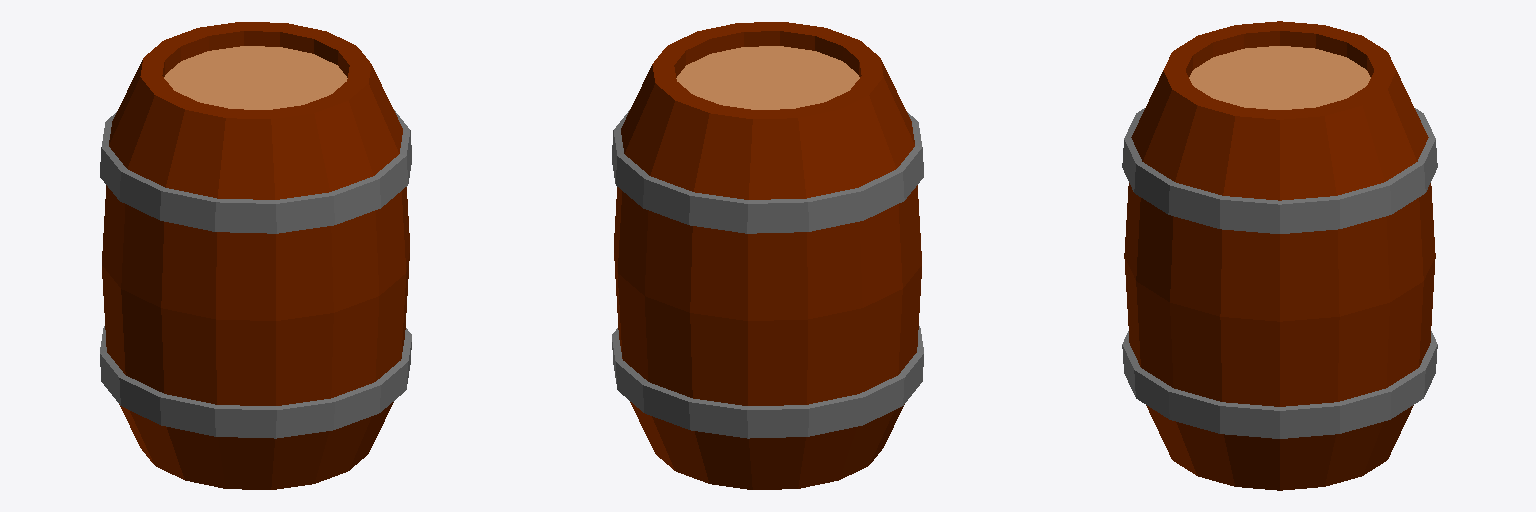
3 renders of one model, left to right at view 1: azimuth 30°, elevation 25°; view 2: azimuth 150°, elevation 25°; view 3: azimuth 270°, elevation 25°, orthographic.
Parts seen in each view (by area): view 1: Cylinder; view 2: Cylinder; view 3: Cylinder.
Boxes of the visible parts, x1=… form: Cylinder: x1=100, y1=22, x2=411, y2=489; Cylinder: x1=612, y1=22, x2=923, y2=489; Cylinder: x1=1122, y1=21, x2=1437, y2=490.
Size of the model in its own units: 2.71 by 3.51 by 2.71.
Materials: 1 (1 with a texture image).